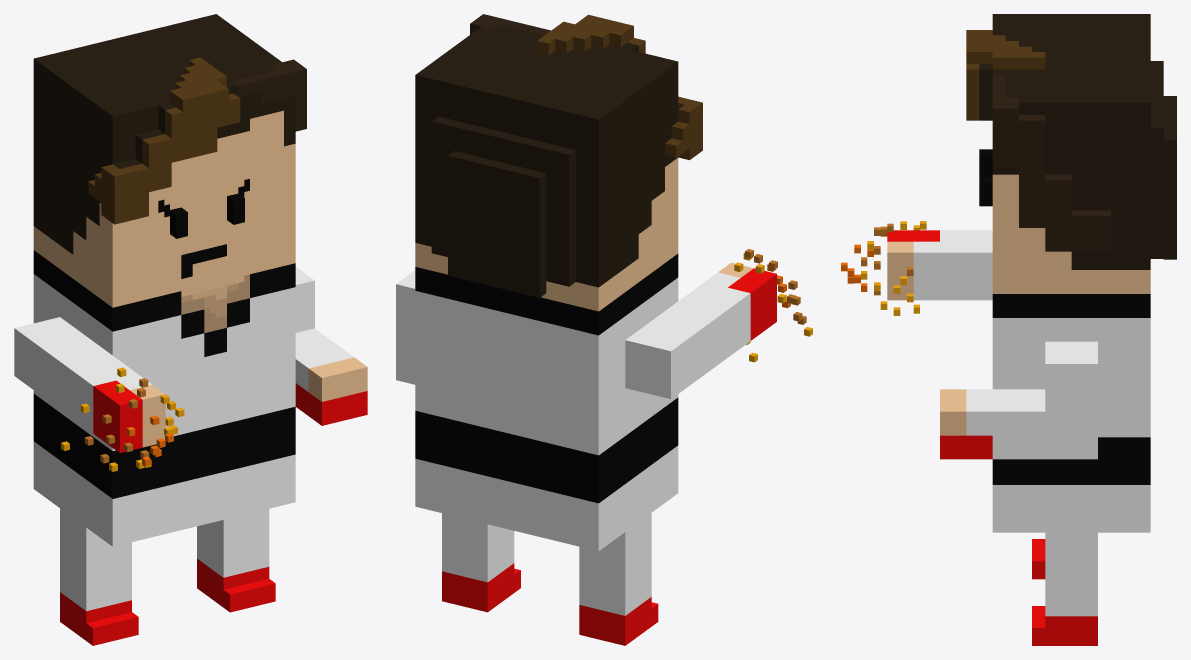
The model's file is 8x kungfu master.obj.
3 renders of one model, left to right at view 1: azimuth 30°, elevation 25°; view 2: azimuth 150°, elevation 25°; view 3: azimuth 270°, elevation 25°, orthographic.
Size of the model in its own units: 56 by 93 by 51.
1 material, 1 textured.
